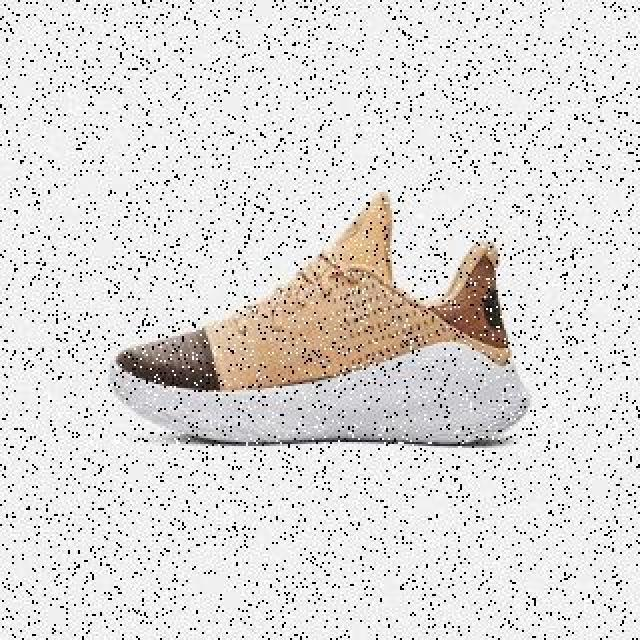shoes: (108, 190, 530, 446)
